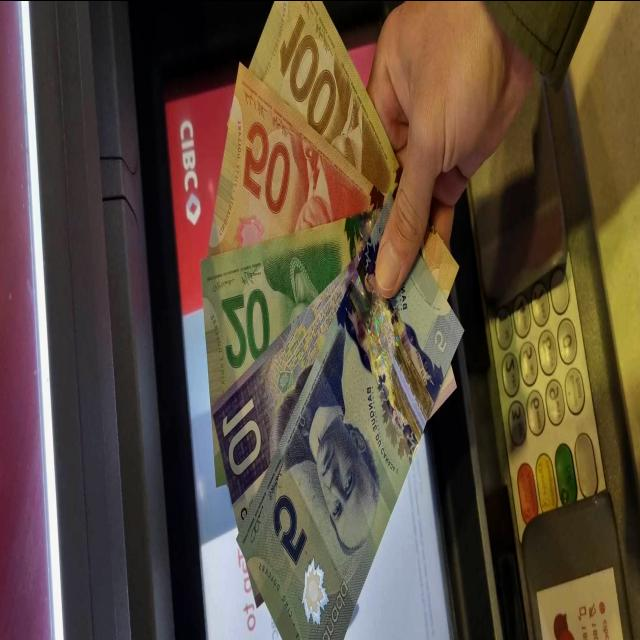10 cad: (212, 260, 361, 526)
100 cad: (250, 0, 402, 209)
20 cad: (209, 219, 377, 403)
5 cad: (240, 258, 444, 640)
50 cad: (213, 62, 383, 248)
